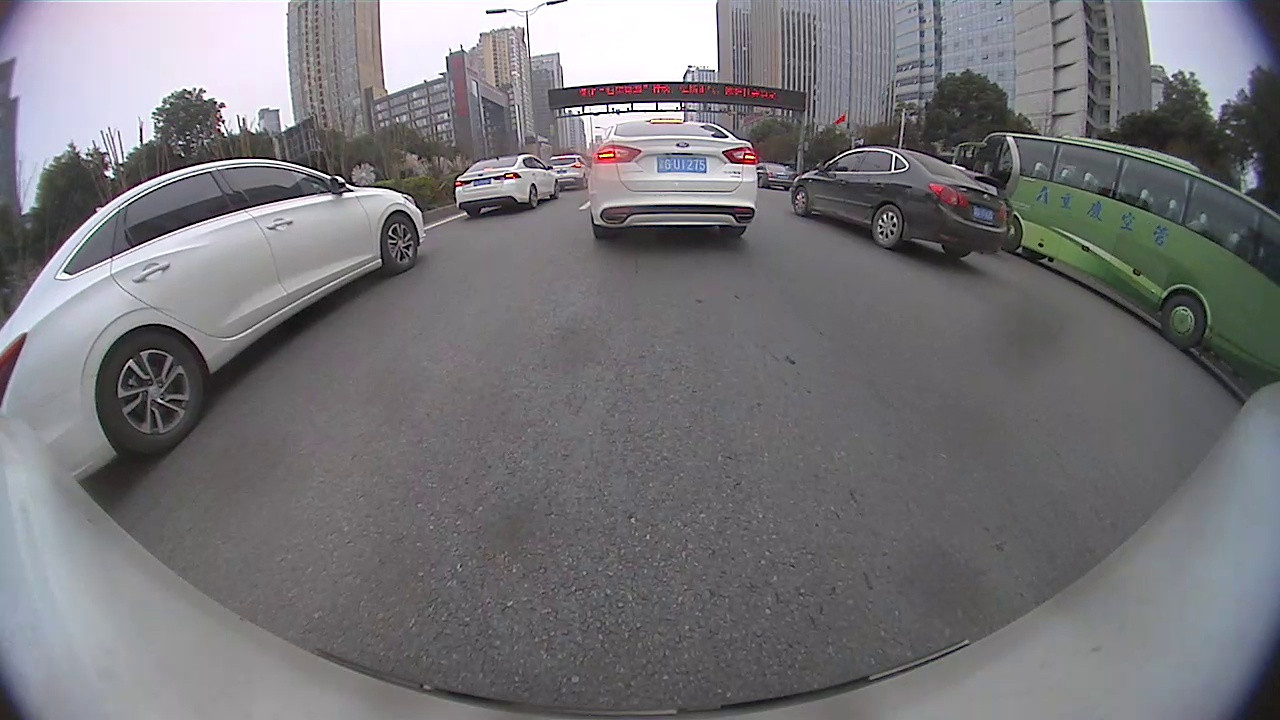bus: (949, 129, 1278, 392)
car: (1, 158, 425, 478), (789, 145, 1008, 259), (589, 118, 758, 239), (454, 154, 561, 216), (546, 154, 590, 190), (758, 162, 794, 190)
front: (378, 211, 423, 279), (1001, 213, 1020, 256), (794, 187, 809, 215)
rear: (102, 340, 210, 459), (1161, 298, 1204, 349), (872, 203, 902, 252), (527, 184, 540, 210)
